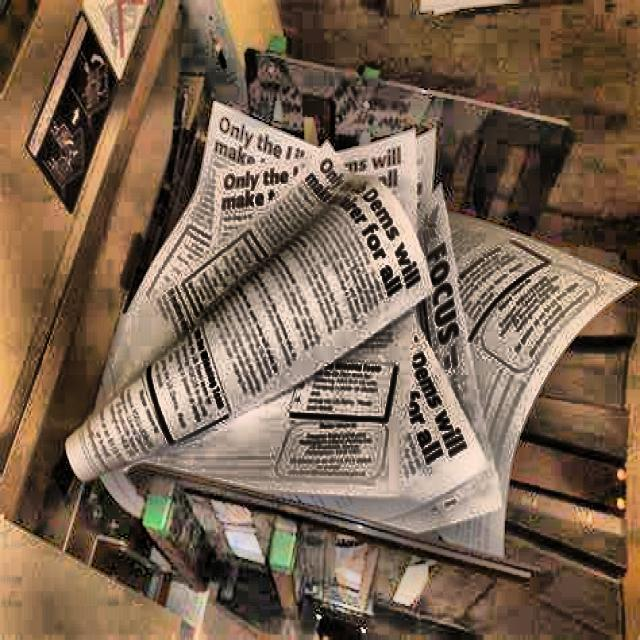Paper: (51, 104, 640, 577)
